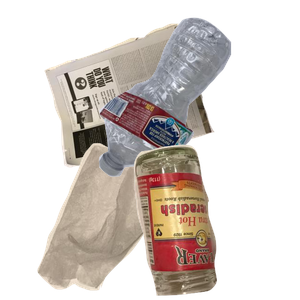glass: (131, 142, 300, 300)
paper: (42, 21, 249, 181)
plastic: (96, 15, 300, 184)
trash: (35, 140, 203, 300)
